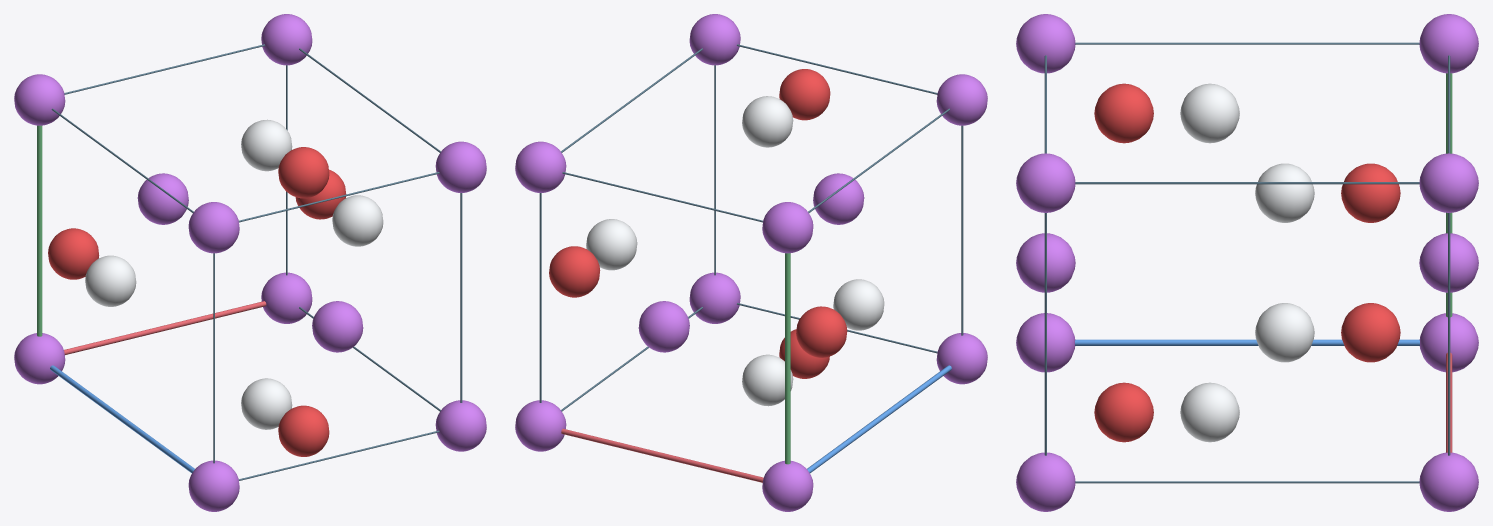
The model's file is chat-lithium-hydroxide.glb.
3 views of the same model, side by side, from view 1: azimuth 30°, elevation 25°; view 2: azimuth 150°, elevation 25°; view 3: azimuth 270°, elevation 25° (orthographic). The views are drawn at different scales.
Visible parts, largest first — view 1: Li · Li · 1 (×10), H · H · 1 (×4), Ô mạng và các trục a, b, c, O · O · 1 (×4); view 2: Li · Li · 1 (×10), H · H · 1 (×4), Ô mạng và các trục a, b, c, O · O · 1 (×4); view 3: Li · Li · 1 (×10), O · O · 1 (×4), H · H · 1 (×4), Ô mạng và các trục a, b, c.
Boxes of the visible parts, x1,y1,x2,y2 form: Li · Li · 1 (×10): (14, 14, 486, 511); H · H · 1 (×4): (85, 119, 383, 429); Ô mạng và các trục a, b, c: (37, 44, 462, 480); O · O · 1 (×4): (48, 147, 345, 456); Li · Li · 1 (×10): (515, 14, 987, 511); H · H · 1 (×4): (586, 96, 884, 406); Ô mạng và các trục a, b, c: (539, 44, 963, 482); O · O · 1 (×4): (549, 69, 847, 378); Li · Li · 1 (×10): (1016, 14, 1478, 511); O · O · 1 (×4): (1094, 83, 1400, 442); H · H · 1 (×4): (1180, 83, 1314, 442); Ô mạng và các trục a, b, c: (1044, 42, 1452, 483).
Size of the model in its own units: 4.19 by 4.19 by 4.97.
